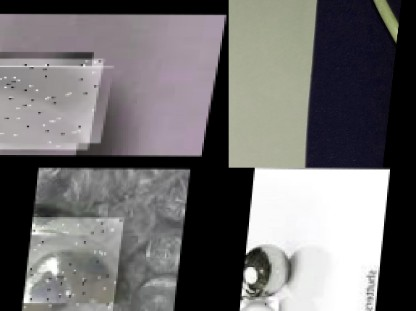ironball: (24, 246, 110, 309), (243, 238, 294, 299), (242, 296, 281, 311)
